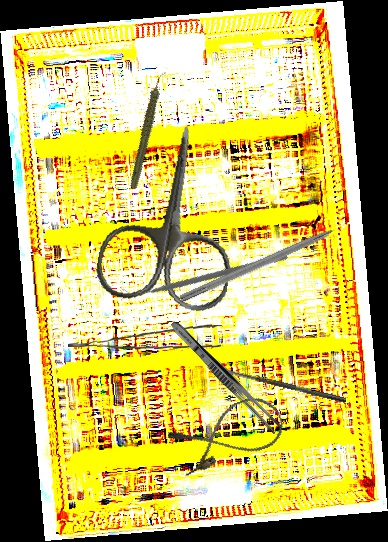Cannula: (165, 389, 290, 480)
Chopper: (120, 188, 289, 357)
Dressing Forceps: (166, 317, 285, 436)
Handpiece: (106, 69, 191, 192)
Hook Surgical: (178, 218, 356, 305)
Iris Scissors: (92, 113, 254, 317)
Surgical Spoon: (216, 365, 347, 403)
Tissue Forceps: (68, 317, 222, 355)
